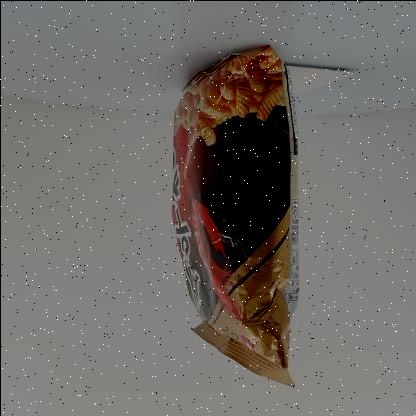Others: (136, 27, 344, 396)
